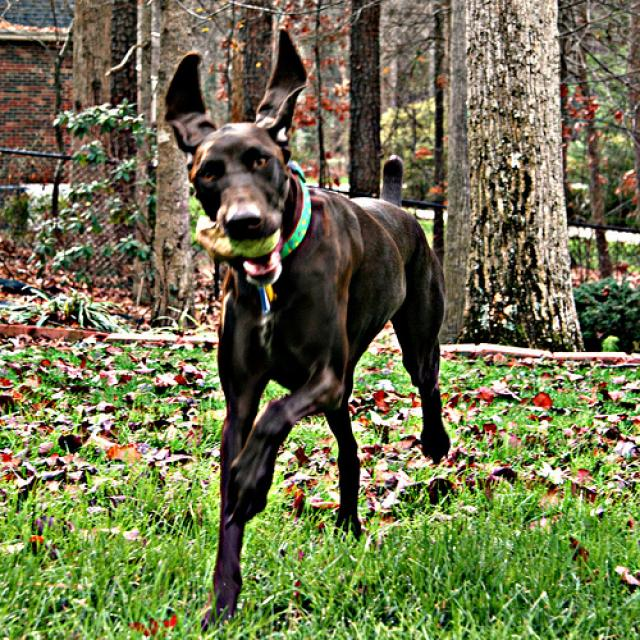dog-german_shorthaired: (163, 18, 462, 614)
